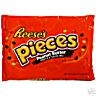grozi_31: (1, 15, 95, 81)
